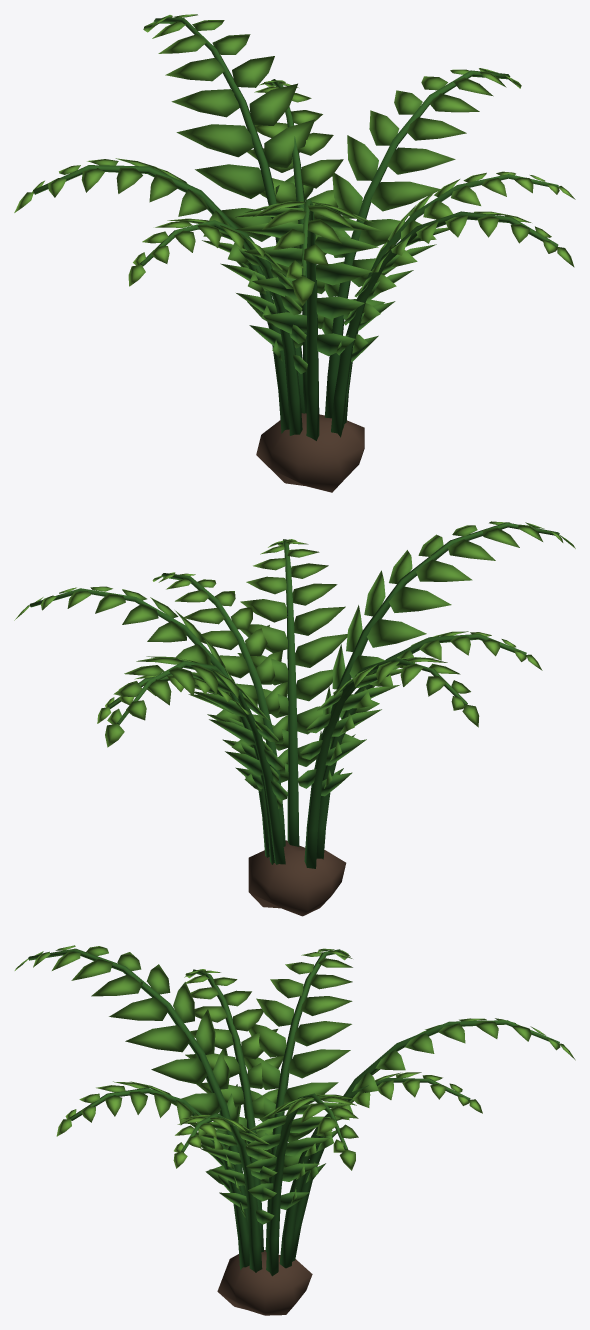
The model's file is fern.lod0.glb.
The picture shows the model from 3 angles, top to bottom: view 1: azimuth 30°, elevation 25°; view 2: azimuth 150°, elevation 25°; view 3: azimuth 270°, elevation 25°; orthographic projection. The views are drawn at different scales.
Parts seen in each view (by area): view 1: fern_s1_lod0; view 2: fern_s1_lod0; view 3: fern_s1_lod0.
Boxes of the visible parts, bbox=[...] form: fern_s1_lod0: bbox=[14, 14, 575, 492]; fern_s1_lod0: bbox=[14, 521, 575, 916]; fern_s1_lod0: bbox=[14, 945, 575, 1315].
Bounding box in the file's own units: 0.7732 × 0.5362 × 0.8838.
